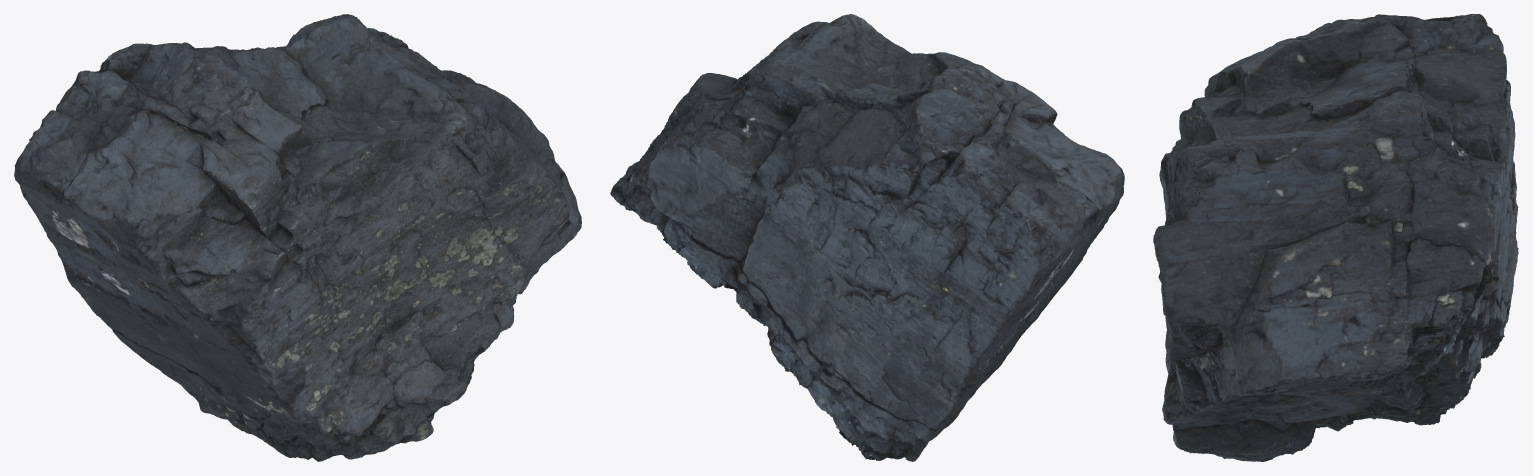
Rendered from coal.glb.
The picture shows the model from 3 angles, left to right: view 1: azimuth 30°, elevation 25°; view 2: azimuth 150°, elevation 25°; view 3: azimuth 270°, elevation 25°; orthographic projection. The views are drawn at different scales.
Visible parts, largest first — view 1: Object_2, Object_3, Object_4; view 2: Object_3, Object_4, Object_2; view 3: Object_2, Object_4, Object_3.
Part boxes in pixels (left/top/right/bottom): Object_2: left=36, top=41, right=581, bottom=461; Object_3: left=14, top=65, right=274, bottom=448; Object_4: left=58, top=14, right=511, bottom=177; Object_3: left=610, top=115, right=1123, bottom=461; Object_4: left=628, top=44, right=1064, bottom=329; Object_2: left=644, top=14, right=1124, bottom=459; Object_2: left=1153, top=15, right=1505, bottom=461; Object_4: left=1285, top=14, right=1514, bottom=448; Object_3: left=1252, top=26, right=1518, bottom=454.
Size of the model in its own units: 0.4094 by 0.3076 by 0.2549.
Materials: 1 (1 with a texture image).
